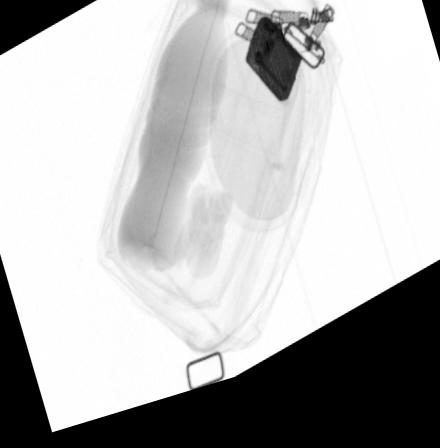Lighter: (244, 31, 303, 120)
